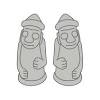Stone Statue: (47, 10, 87, 87), (10, 10, 49, 86)
